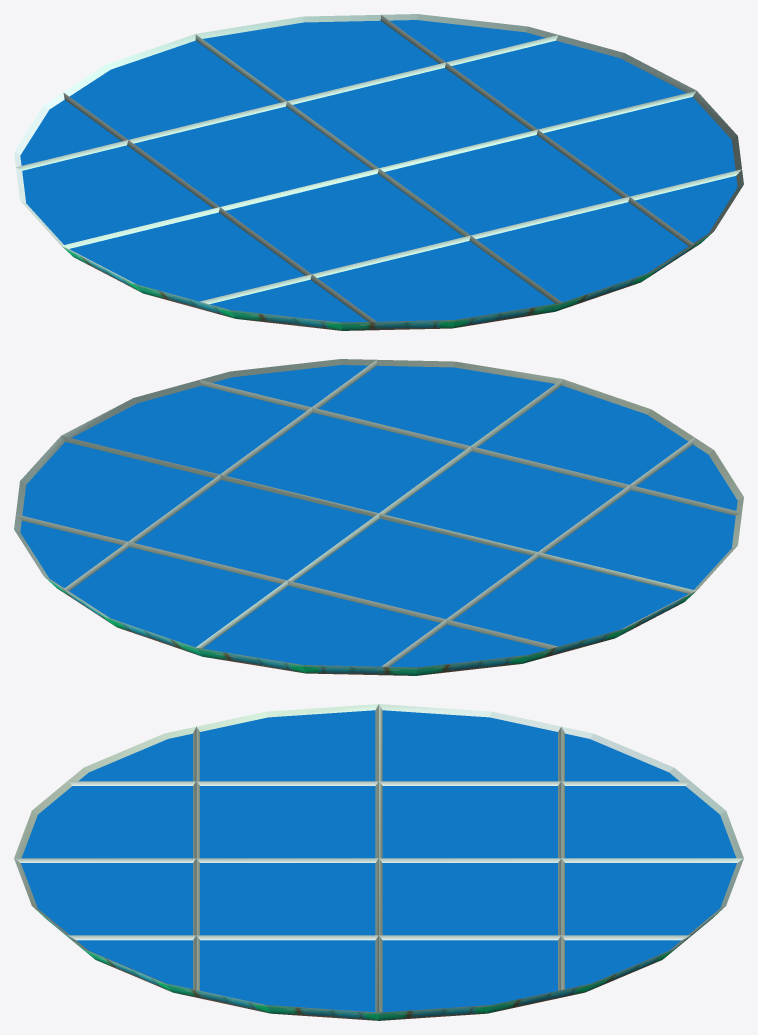
File: mirrors.dae
3 views of the same model, one above another, from view 1: azimuth 30°, elevation 25°; view 2: azimuth 150°, elevation 25°; view 3: azimuth 270°, elevation 25° (orthographic).
Parts seen in each view (by area): view 1: m0, m1; view 2: m0, m1; view 3: m0, m1.
Boxes of the visible parts, <box> form: m0: <box>14,14,743,322</box>; m1: <box>62,232,712,330</box>; m0: <box>14,359,743,667</box>; m1: <box>45,577,695,675</box>; m0: <box>14,704,743,1012</box>; m1: <box>32,906,725,1020</box>.
Bounding box in the file's own units: 2000 × 333 × 2000.
2 materials, 1 textured.
